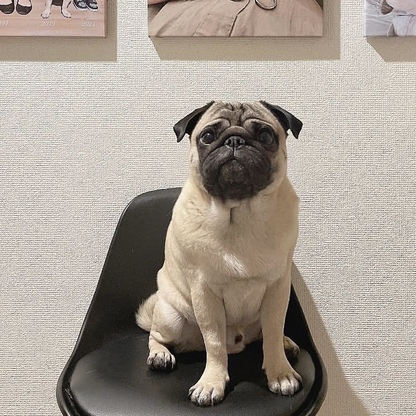Pug: (131, 96, 309, 409)
